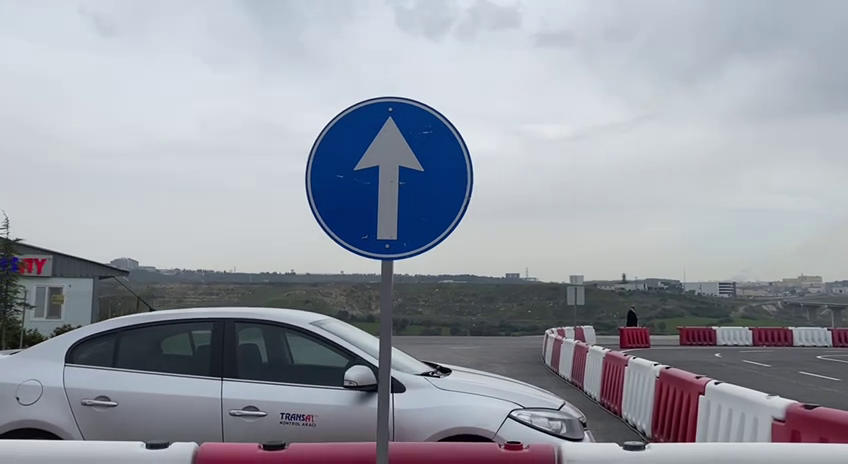forward: (303, 91, 478, 266)
